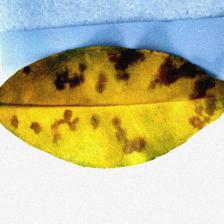black spot: (41, 49, 213, 136)
